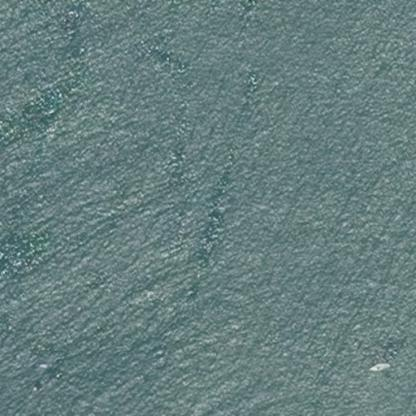ship: (366, 354, 392, 379)
